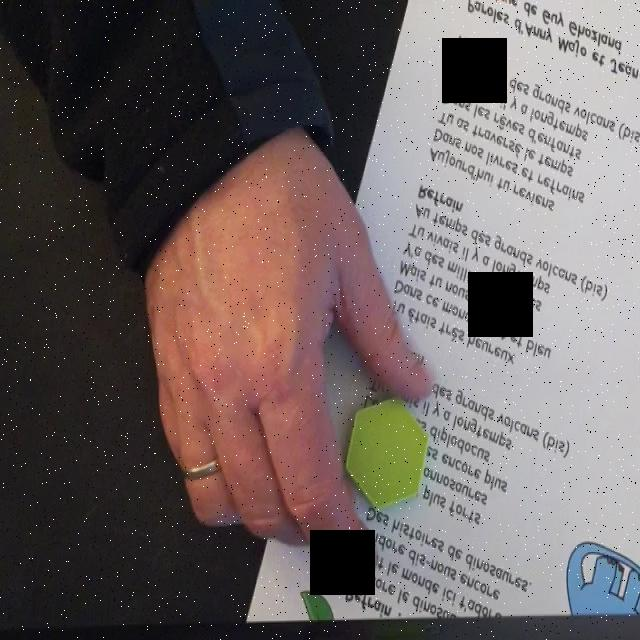hexagon: (345, 397, 430, 511)
